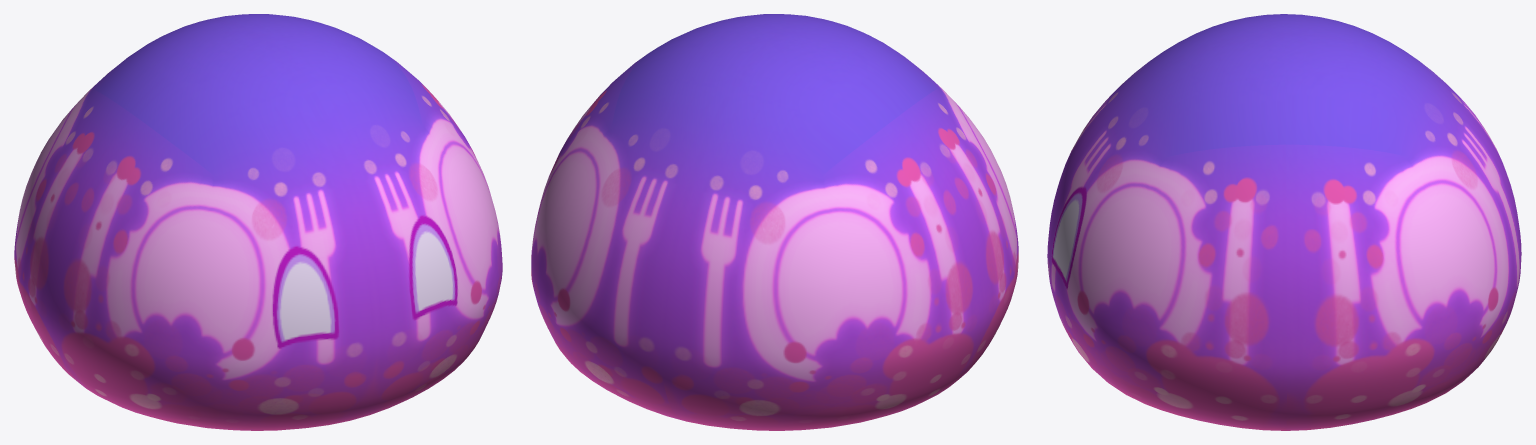
Rendered from Slime_Enemy_TwoSlimeIdle2.fbx.
3 views of the same model, side by side, from view 1: azimuth 30°, elevation 25°; view 2: azimuth 150°, elevation 25°; view 3: azimuth 270°, elevation 25° (orthographic).
Parts seen in each view (by area): view 1: IceSlime; view 2: IceSlime; view 3: IceSlime.
Boxes of the visible parts, x1=… form: IceSlime: x1=14, y1=14, x2=502, y2=430; IceSlime: x1=531, y1=14, x2=1018, y2=430; IceSlime: x1=1047, y1=14, x2=1521, y2=430.
Size of the model in its own units: 25.15 by 20.39 by 25.03.
1 material, 1 textured.
